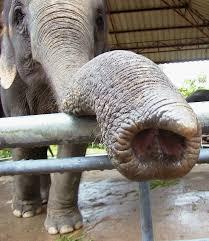elephant: (0, 0, 198, 180), (13, 171, 81, 233), (13, 147, 44, 159), (61, 142, 84, 156)
